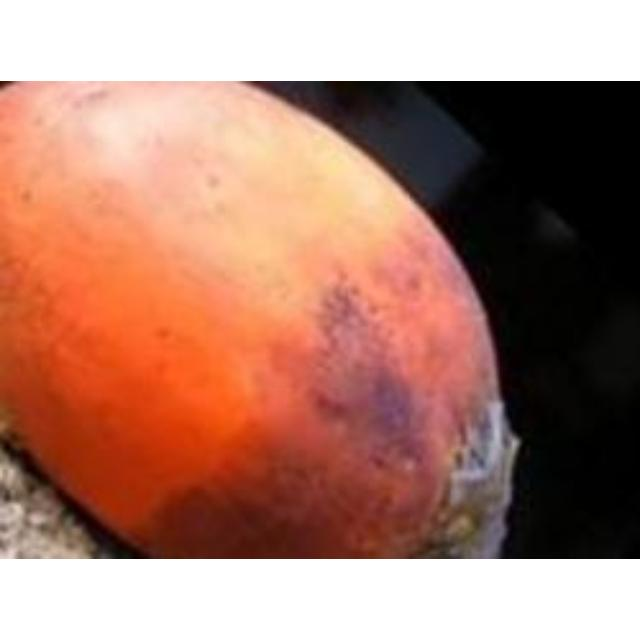good: (0, 81, 520, 557)
